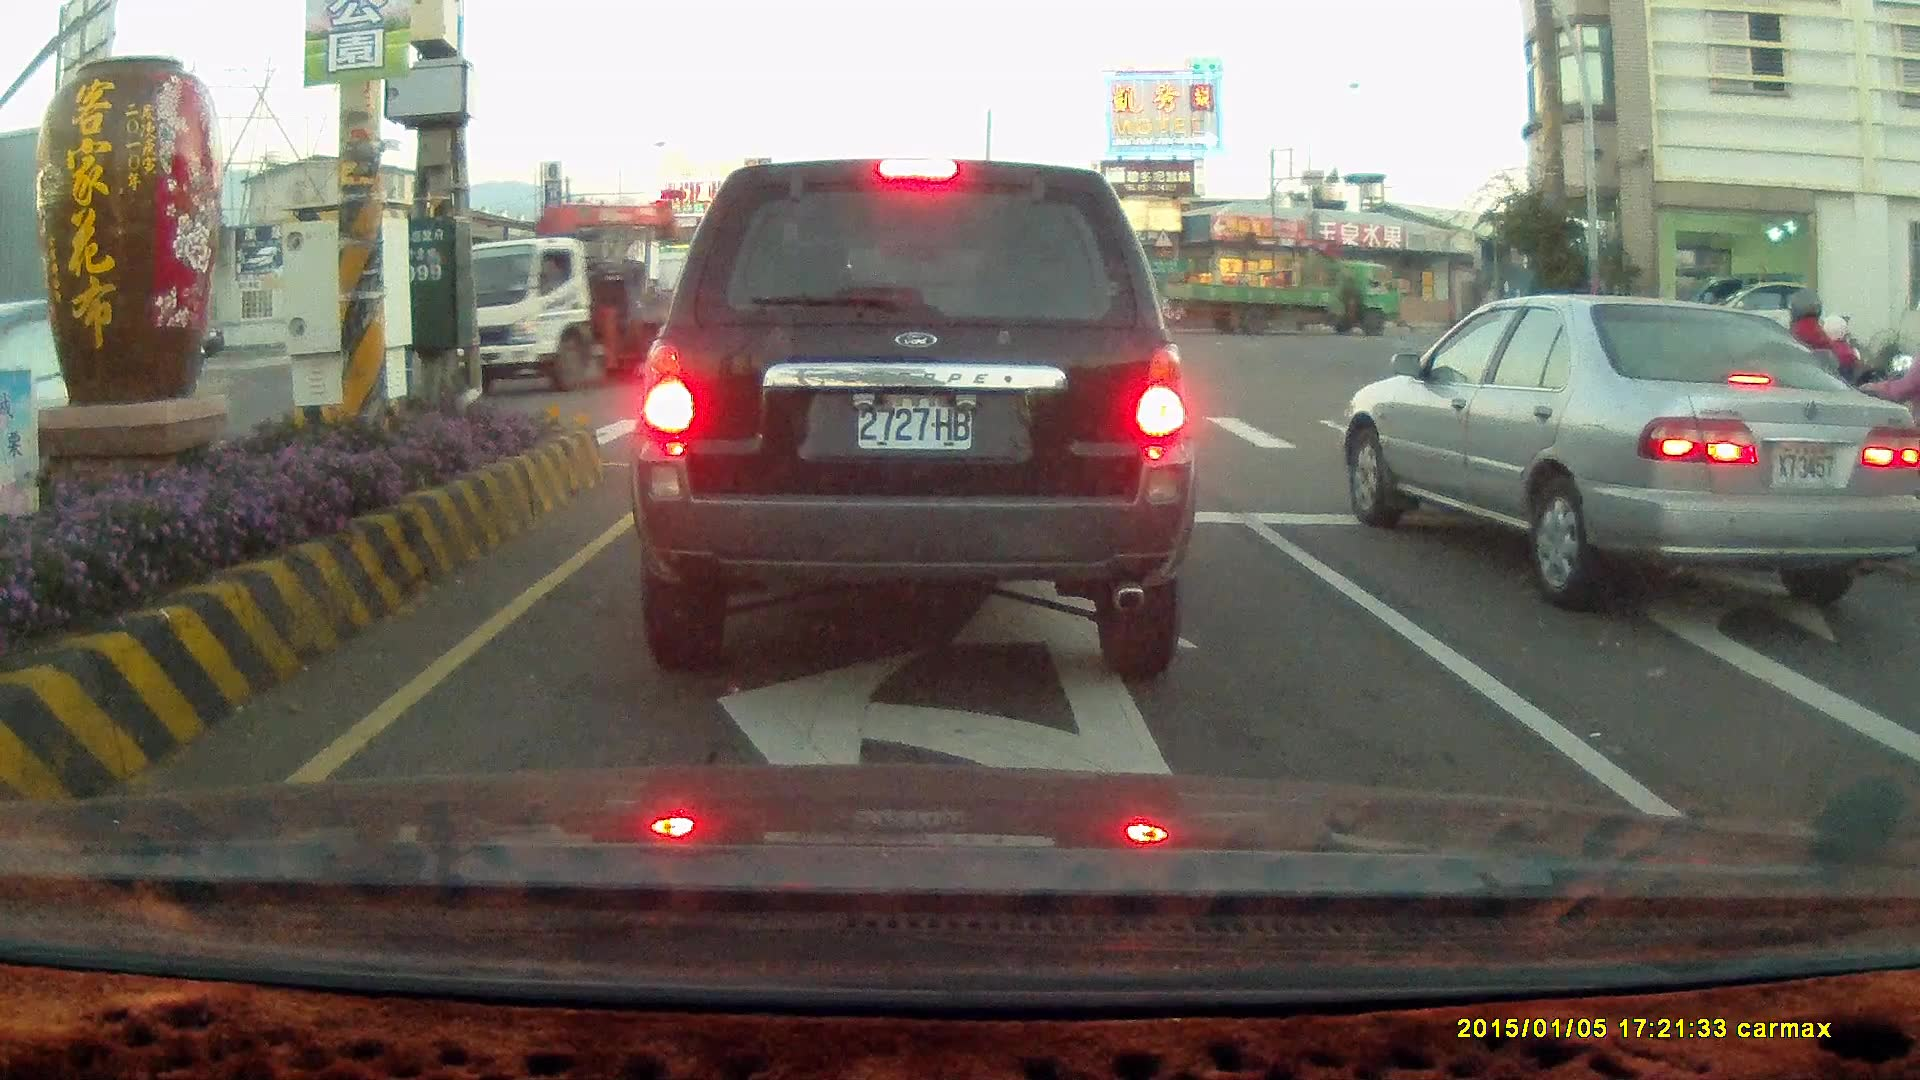rider: (1720, 287, 1860, 543), (1812, 349, 1920, 580)
vehicle: (626, 154, 1197, 680), (1339, 292, 1920, 610), (1354, 296, 1904, 595), (417, 238, 749, 398), (1656, 276, 1852, 372), (1195, 256, 1400, 340), (1668, 275, 1822, 373), (1896, 493, 1920, 836)
